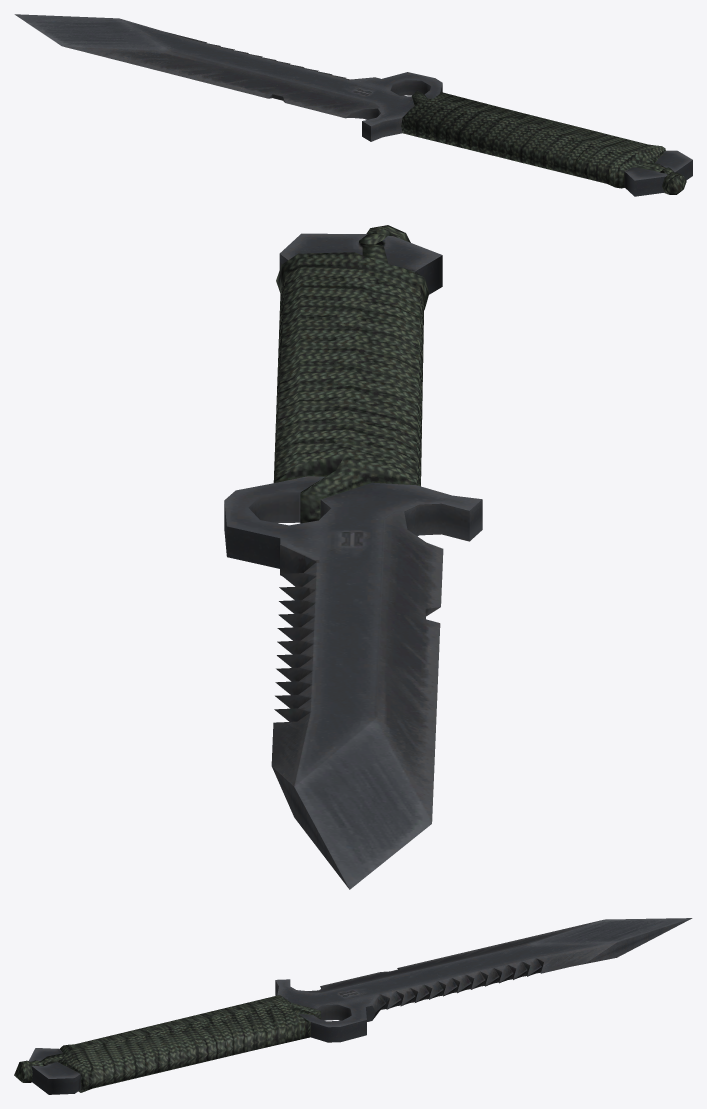
The model's file is t6_wpn_knife_base_world_LOD0.obj.
The picture shows the model from 3 angles, top to bottom: view 1: azimuth 30°, elevation 25°; view 2: azimuth 150°, elevation 25°; view 3: azimuth 270°, elevation 25°; orthographic projection. The views are drawn at different scales.
Visible parts, largest first — view 1: mtl_t6_wpn_knife_base, mtl_t6_wpn_knife_base_camo2; view 2: mtl_t6_wpn_knife_base, mtl_t6_wpn_knife_base_camo2; view 3: mtl_t6_wpn_knife_base, mtl_t6_wpn_knife_base_camo2.
Part boxes in pixels (x1,y1,x2,y2): mtl_t6_wpn_knife_base: (14,14,692,196); mtl_t6_wpn_knife_base_camo2: (401,90,686,194); mtl_t6_wpn_knife_base: (224,233,482,889); mtl_t6_wpn_knife_base_camo2: (273,225,429,523); mtl_t6_wpn_knife_base: (29,918,692,1094); mtl_t6_wpn_knife_base_camo2: (14,995,320,1092).
Size of the model in its own units: 21.24 by 1.96 by 36.07.
